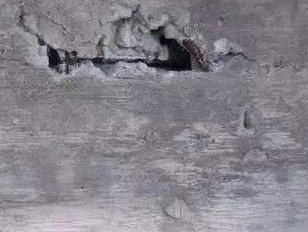Exposed reinforcement: (181, 37, 210, 73)
Spalling: (15, 1, 244, 78)
